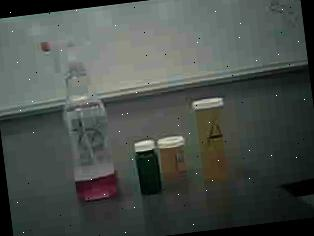Bottle A: (182, 89, 246, 196)
Bottle B: (154, 125, 196, 193)
Bottle C: (130, 134, 169, 207)
hazard: (34, 28, 129, 214)
